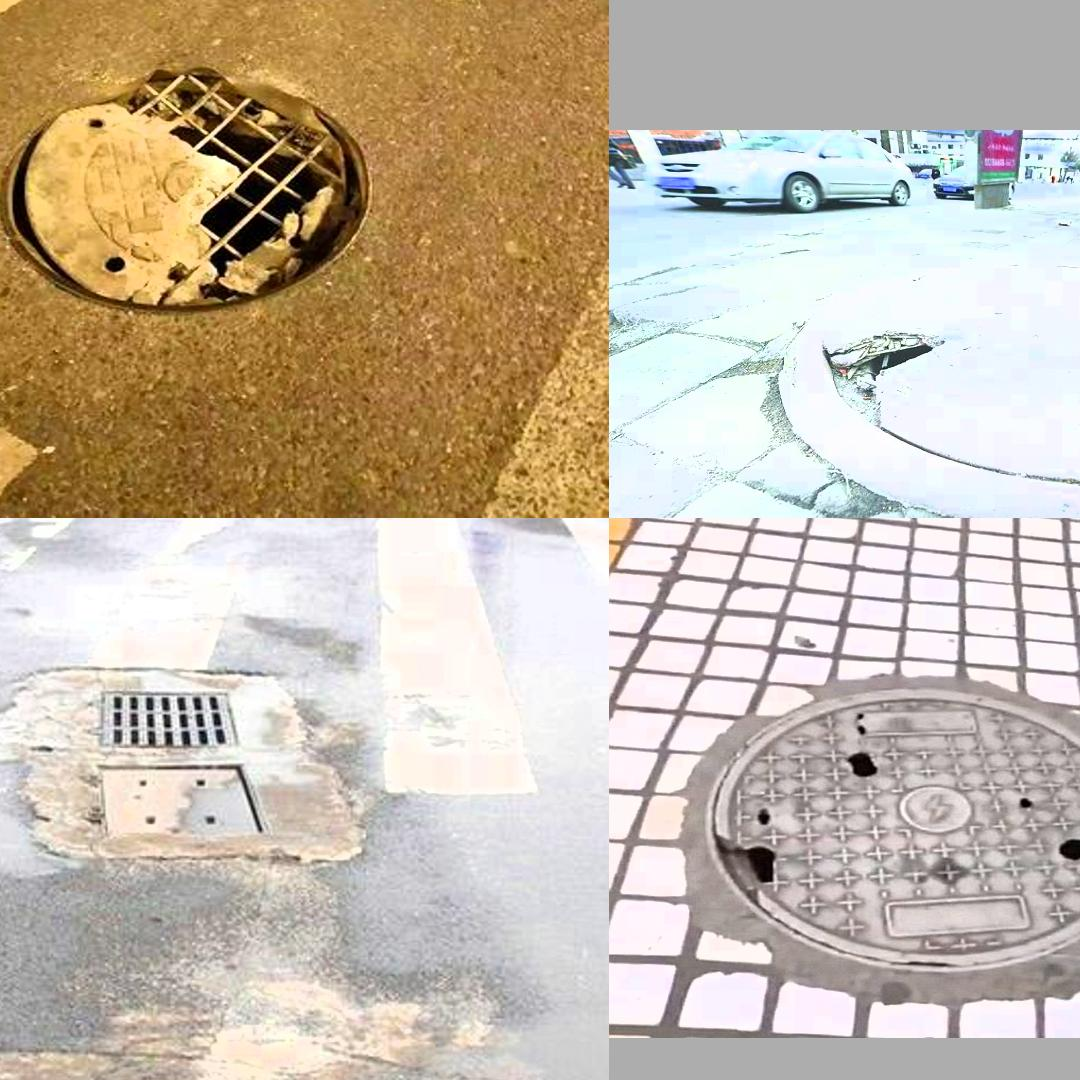broke: (0, 53, 394, 323), (711, 694, 1080, 974), (823, 263, 1080, 485)
